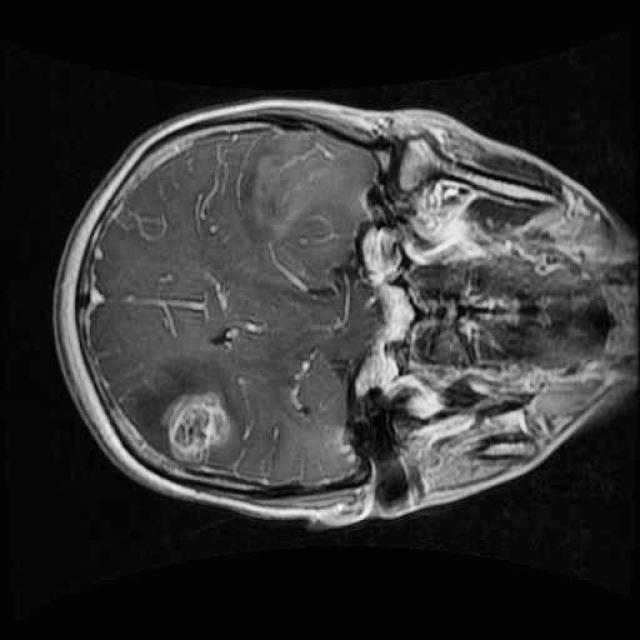Tumor: (113, 342, 249, 482)
